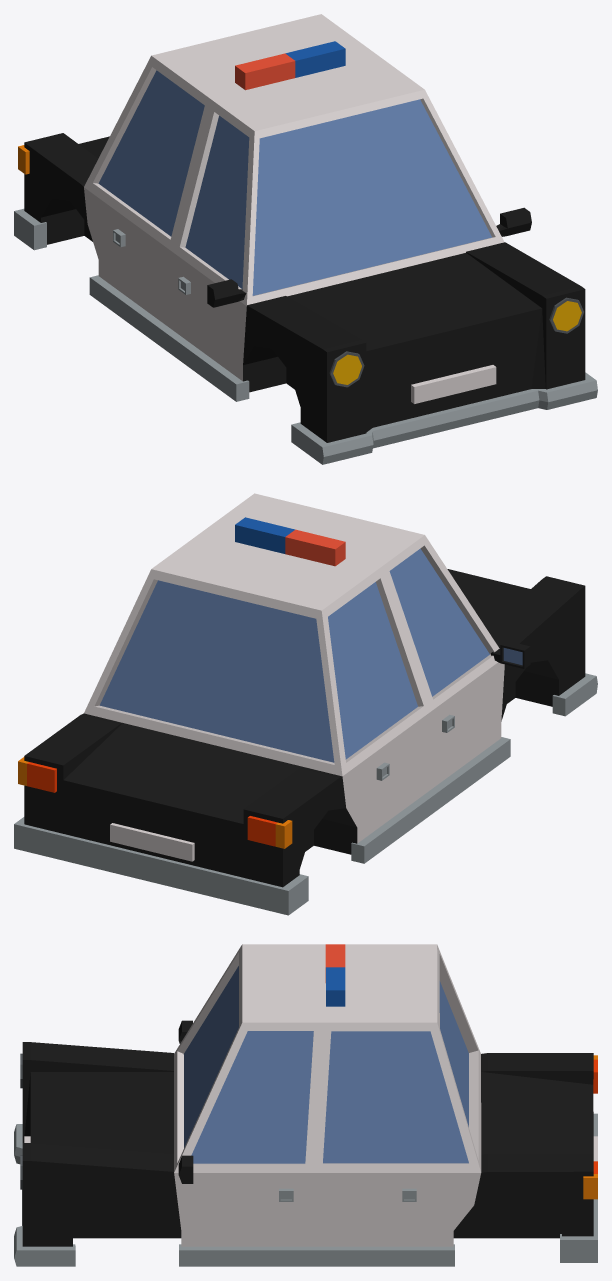
The model's file is Car_09.fbx.
3 views of the same model, one above another, from view 1: azimuth 30°, elevation 25°; view 2: azimuth 150°, elevation 25°; view 3: azimuth 270°, elevation 25° (orthographic). The views are drawn at different scales.
Visible parts, largest first — view 1: Car_09; view 2: Car_09; view 3: Car_09.
Boxes of the visible parts, box(x1,y1,x2,y2) form: Car_09: box(14, 14, 597, 464); Car_09: box(14, 493, 597, 915); Car_09: box(14, 944, 597, 1266).
Bounding box in the file's own units: 4.02 × 3.04 × 6.81.
